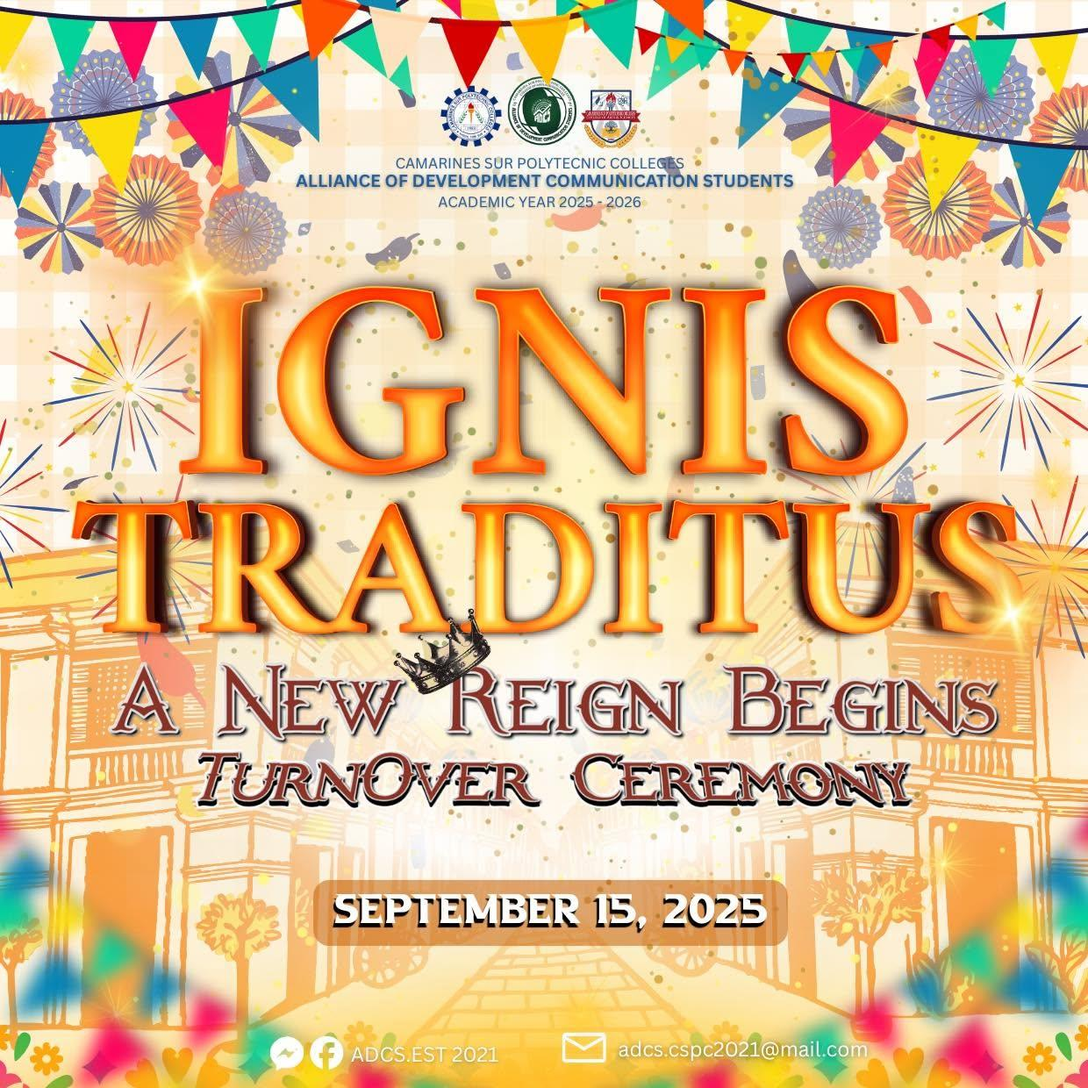embellishment: (4, 0, 1086, 247), (384, 595, 500, 704), (263, 1023, 345, 1074), (539, 1020, 611, 1073)
logo: (434, 71, 505, 152), (505, 70, 576, 147), (583, 73, 637, 151)
text: (67, 278, 1030, 638), (101, 653, 1011, 819), (287, 147, 802, 218), (328, 887, 775, 934), (617, 1035, 881, 1069), (348, 1037, 500, 1072)
underlay: (315, 879, 791, 945)
